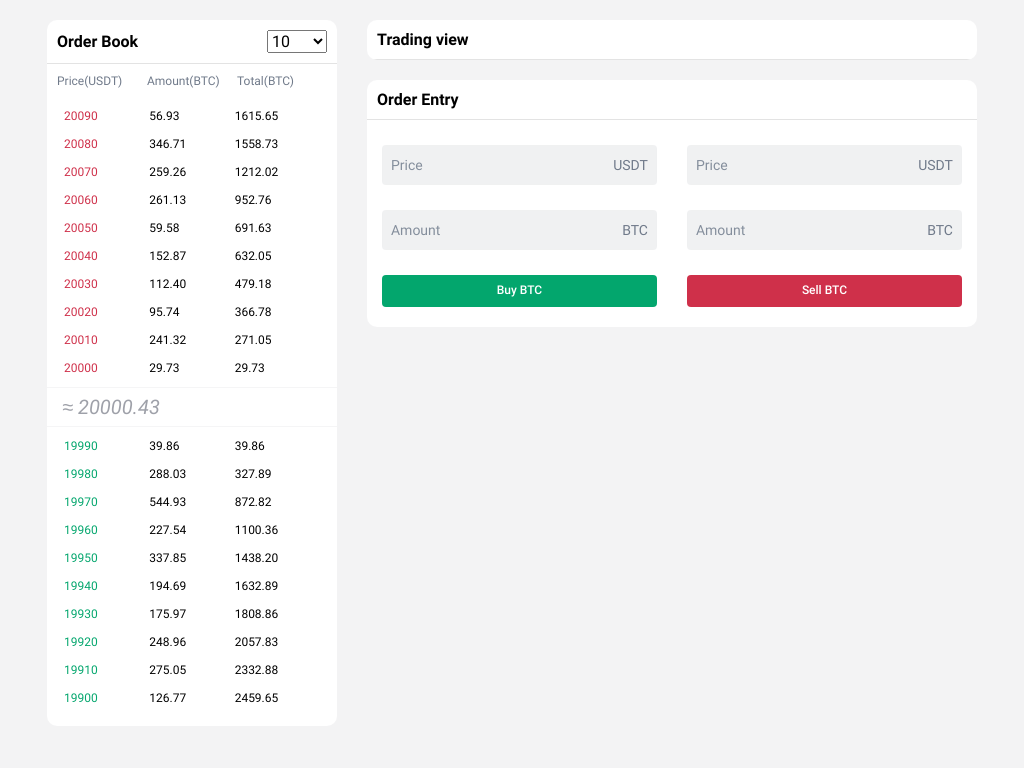
Test: test order book › should aggregate orders with 200 index
Select "200" in the dropdown at coordinates (297, 42), box x1=267 y1=30 x2=327 y2=53
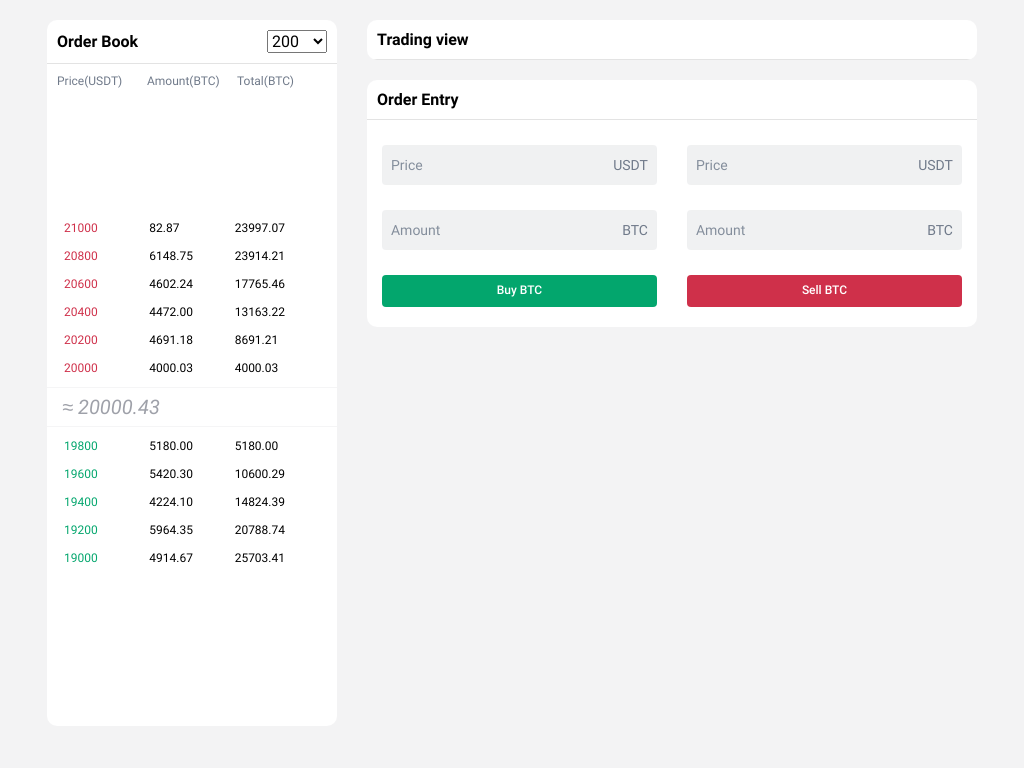
Check: the 1st text "4000.03" is shown, box x1=149 y1=361 x2=193 y2=375
Check: the 1st text "5180.00" is shown, box x1=149 y1=439 x2=193 y2=453
